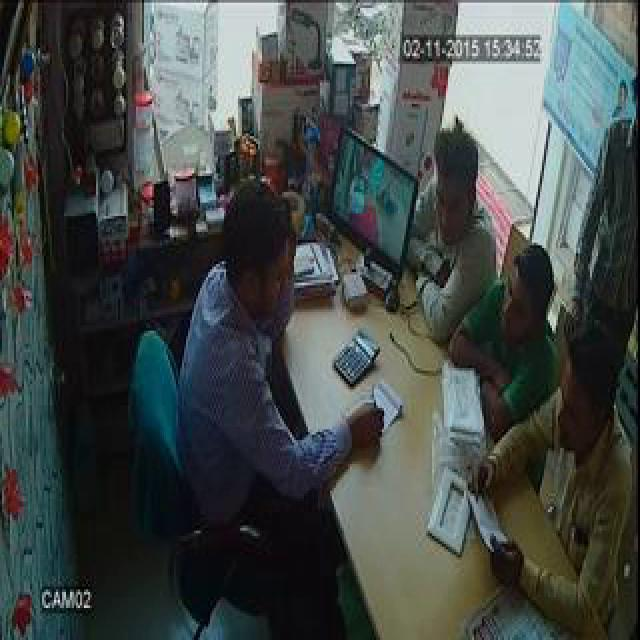shoplifting: (306, 0, 623, 612)
